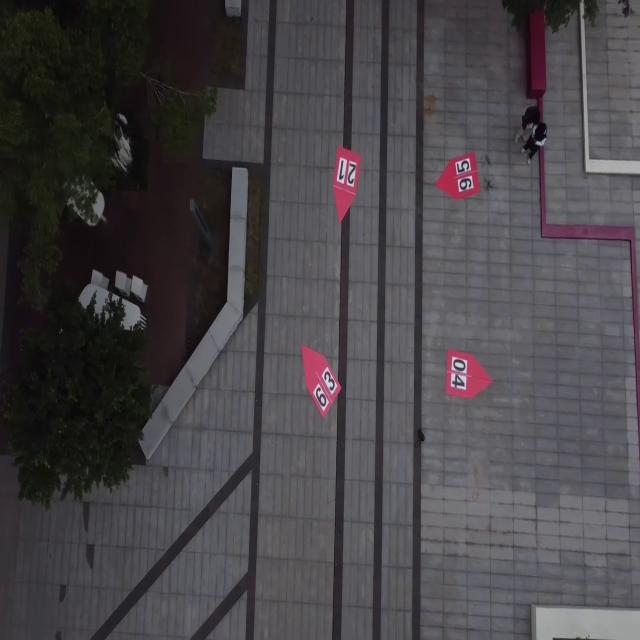-sign-: (302, 344, 342, 419), (445, 348, 493, 400), (332, 144, 362, 224), (436, 152, 483, 199)
